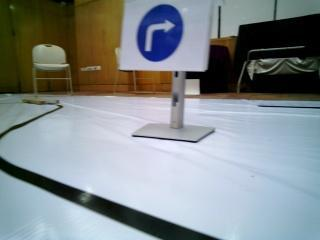right: (126, 0, 203, 68)
